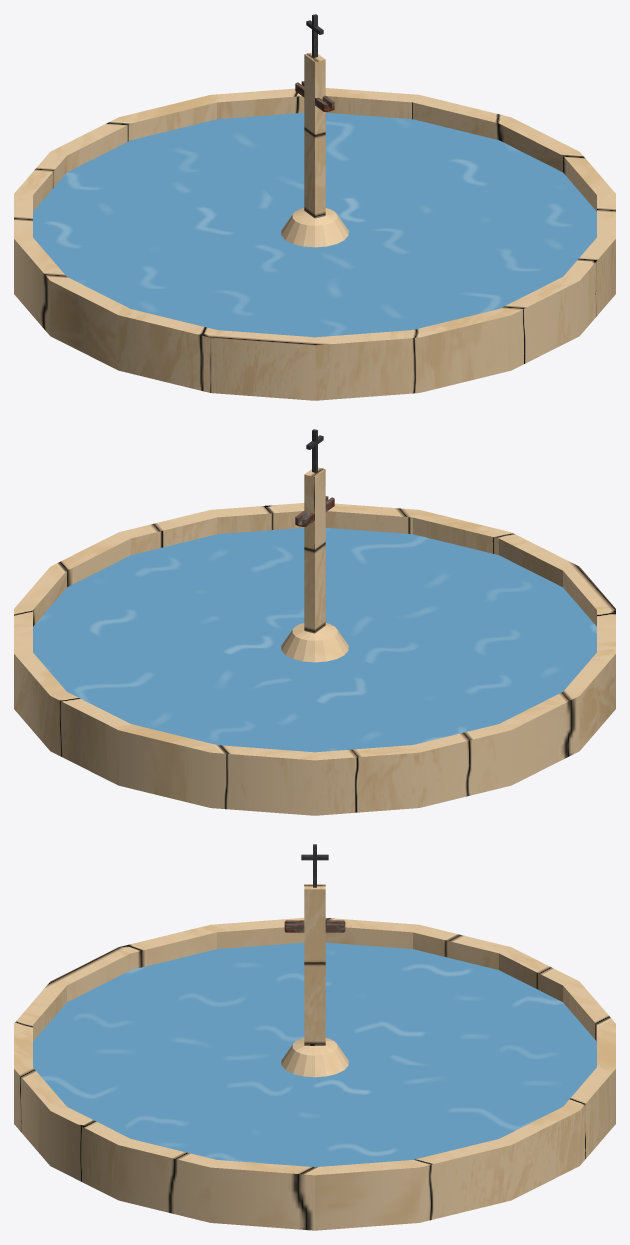
The model's file is Fuente_pueblo.fbx.
3 renders of one model, top to bottom at view 1: azimuth 30°, elevation 25°; view 2: azimuth 150°, elevation 25°; view 3: azimuth 270°, elevation 25°, orthographic.
Visible parts, largest first — view 1: Cylinder002, Cylinder001; view 2: Cylinder002, Cylinder001; view 3: Cylinder002, Cylinder001.
Boxes of the visible parts, x1,y1,x2,y2 form: Cylinder002: (33,112,596,337); Cylinder001: (14,14,615,400); Cylinder002: (33,527,596,752); Cylinder001: (14,429,615,815); Cylinder002: (33,942,596,1167); Cylinder001: (14,844,615,1230).
Bounding box in the file's own units: 2 × 0.9253 × 1.97.
Materials: 2 (2 with a texture image).
